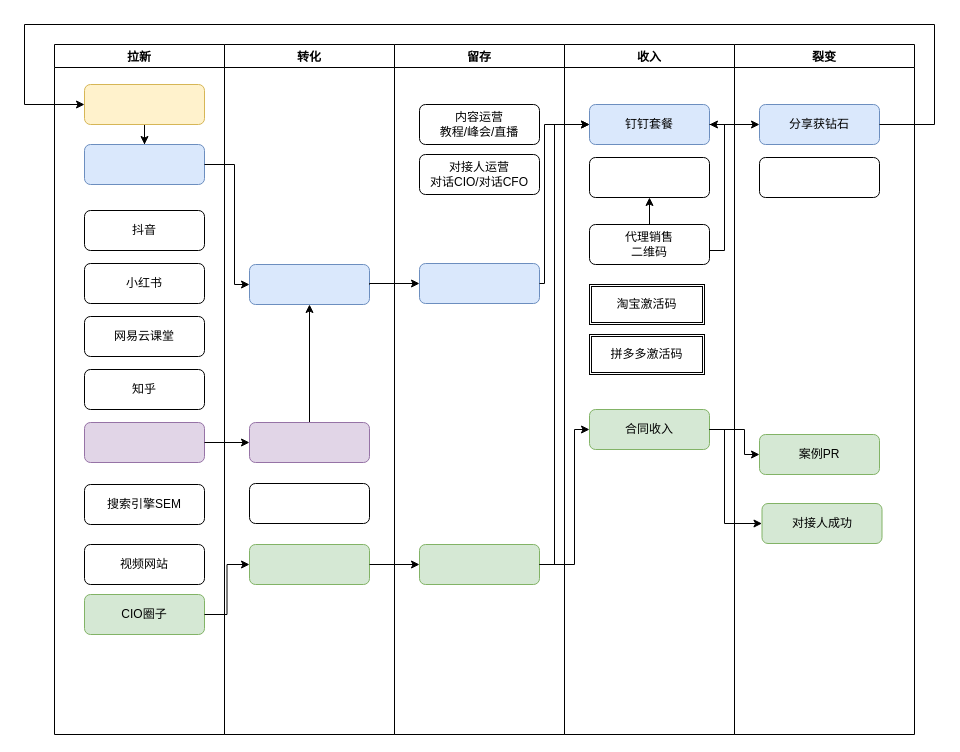
This 960x752 diagram has some shape labels left out. The centre of each missing label's shape, as x and y in pixels:
"H5裂变" goes at [144,104].
"代理二维码" goes at [309,442].
"代理商" goes at [144,442].
"分享获金币" goes at [819,177].
"官方网站" goes at [309,503].
"官网成交 (ping++)" goes at [649,177].
"客户成功团队" goes at [479,564].
"钉钉推荐" goes at [144,164].
"钉钉群运营" goes at [479,283].
"钉钉群销售" goes at [309,284].
"销售接触" goes at [309,564].
